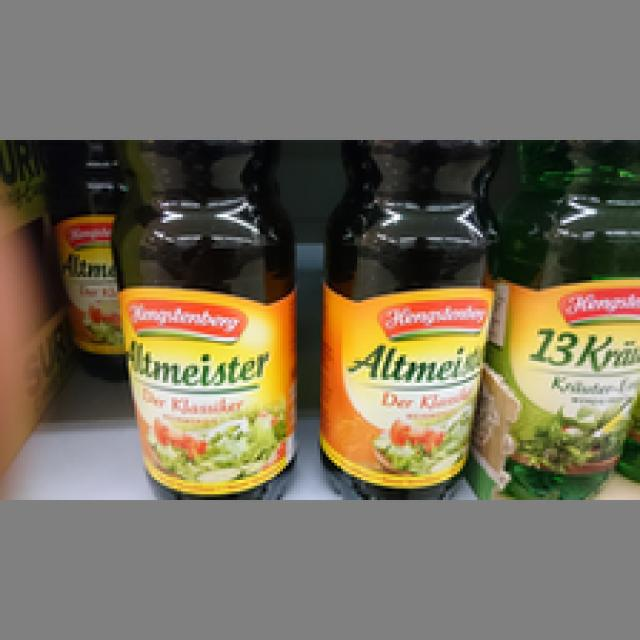groceries: (103, 140, 303, 497), (317, 137, 492, 497), (492, 137, 637, 497), (46, 137, 137, 377)
